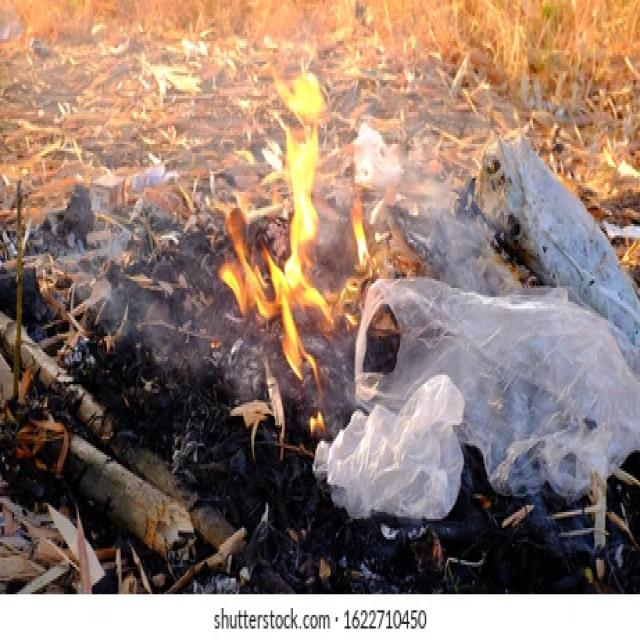fire: (273, 63, 321, 301), (225, 207, 286, 321), (281, 292, 318, 382), (218, 261, 246, 315)
